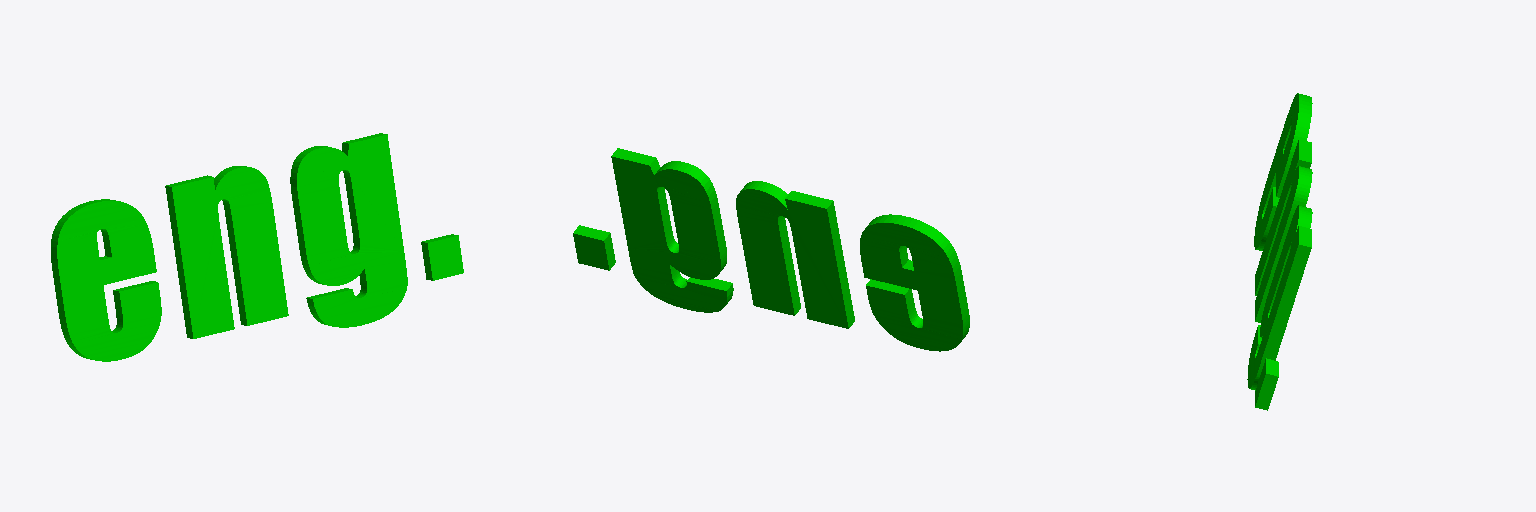
The model's file is eng.obj.
3 renders of one model, left to right at view 1: azimuth 30°, elevation 25°; view 2: azimuth 150°, elevation 25°; view 3: azimuth 270°, elevation 25°, orthographic.
Parts seen in each view (by area): view 1: Text.005_Text.002; view 2: Text.005_Text.002; view 3: Text.005_Text.002.
Boxes of the visible parts, x1,y1,x2,y2 form: Text.005_Text.002: [51, 133, 463, 361]; Text.005_Text.002: [573, 148, 969, 351]; Text.005_Text.002: [1247, 93, 1312, 410].
Bounding box in the file's own units: 0.02 × 0.0081 × 0.0029.